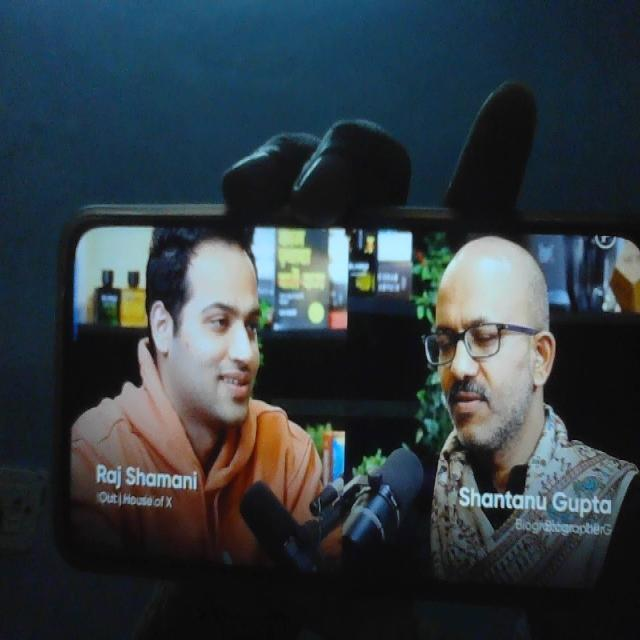fake: (416, 213, 550, 467), (151, 203, 275, 437)
